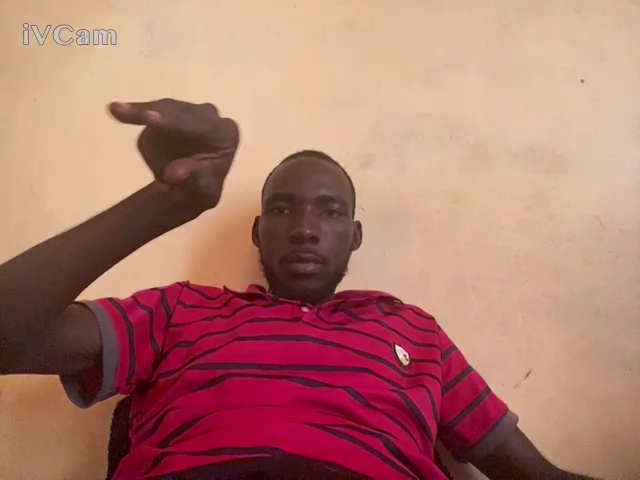Non: (105, 93, 243, 218)
